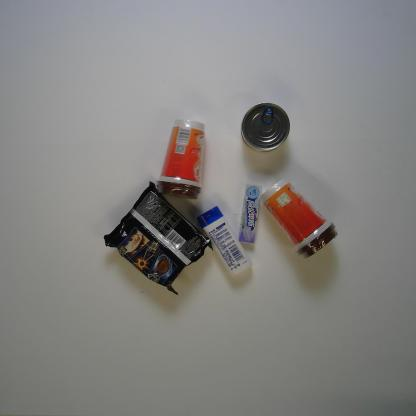Candy: (238, 182, 262, 244)
Canned Food: (239, 101, 291, 152)
Instant Drink: (259, 177, 340, 260), (155, 118, 206, 200)
Instant Noodles: (102, 179, 215, 297)
Personal Hygiene: (196, 205, 254, 279)
